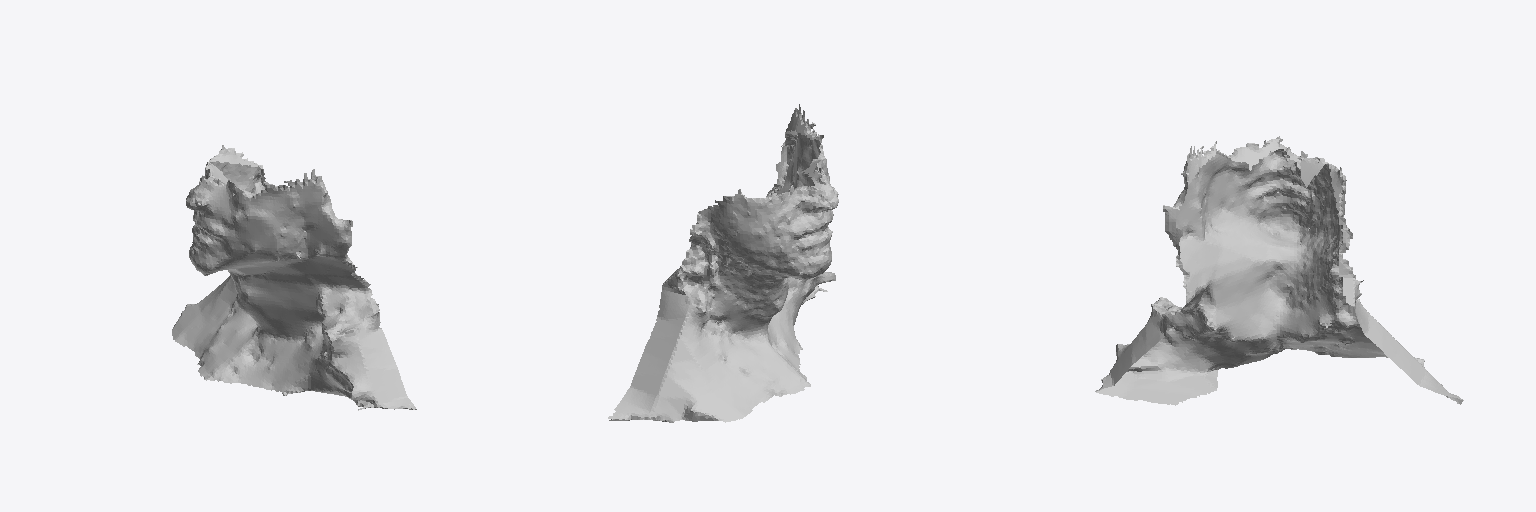
The model's file is henrik1rotate6.obj.
3 renders of one model, left to right at view 1: azimuth 30°, elevation 25°; view 2: azimuth 150°, elevation 25°; view 3: azimuth 270°, elevation 25°, orthographic.
Parts seen in each view (by area): view 1: model_tex_u1_v1_0; view 2: model_tex_u1_v1_0; view 3: model_tex_u1_v1_0.
Boxes of the visible parts, x1=… form: model_tex_u1_v1_0: x1=172, y1=145, x2=416, y2=410; model_tex_u1_v1_0: x1=608, y1=104, x2=838, y2=422; model_tex_u1_v1_0: x1=1095, y1=136, x2=1463, y2=405.
Size of the model in its own units: 3.27 by 5.29 by 7.61.